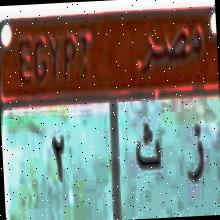2: (42, 124, 77, 190)
thaa: (131, 114, 164, 176)
zay: (180, 115, 212, 191)
